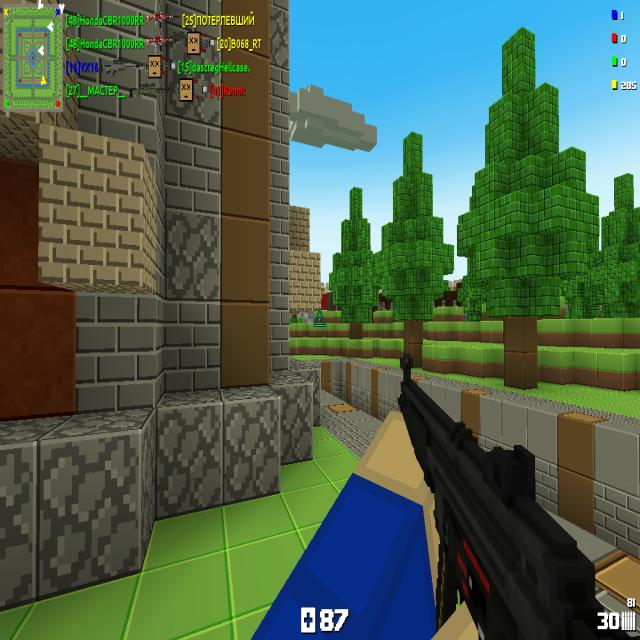enemy: (321, 287, 326, 310)
